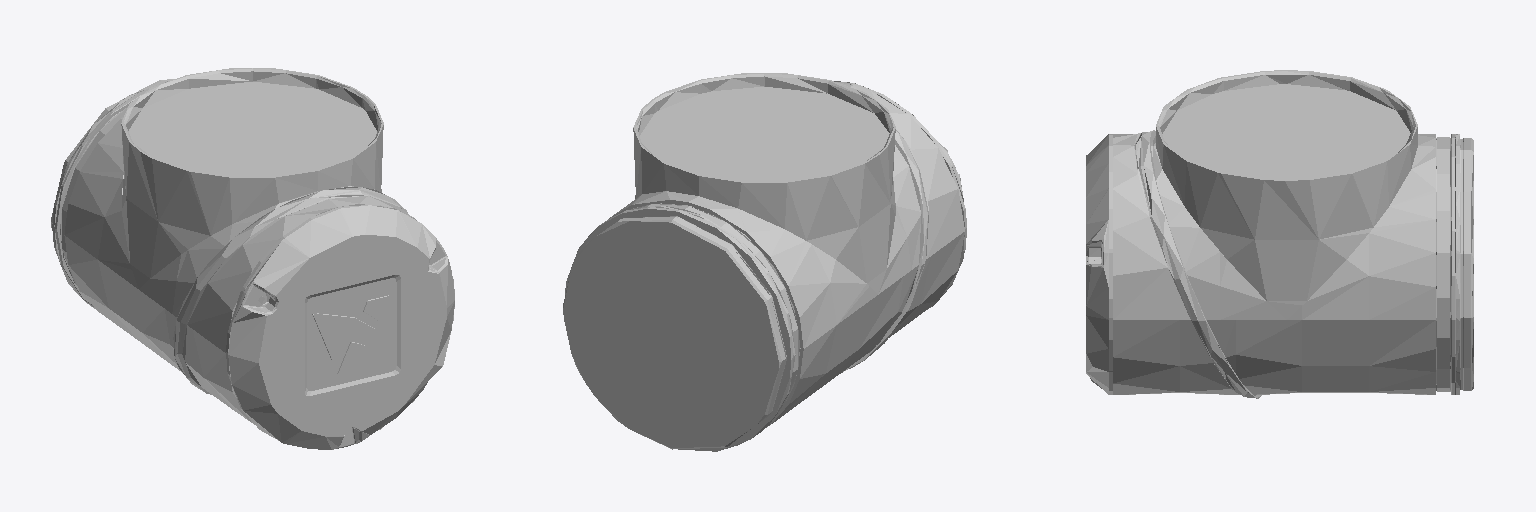
File: ARM2.obj
3 renders of one model, left to right at view 1: azimuth 30°, elevation 25°; view 2: azimuth 150°, elevation 25°; view 3: azimuth 270°, elevation 25°, orthographic.
Visible parts, largest first — view 1: GBT-C7A-J1.001; view 2: GBT-C7A-J1.001; view 3: GBT-C7A-J1.001.
Boxes of the visible parts, x1,y1,x2,y2 form: GBT-C7A-J1.001: [51, 68, 454, 449]; GBT-C7A-J1.001: [563, 73, 966, 451]; GBT-C7A-J1.001: [1086, 70, 1473, 398].
Size of the model in its own units: 121 by 130 by 174.